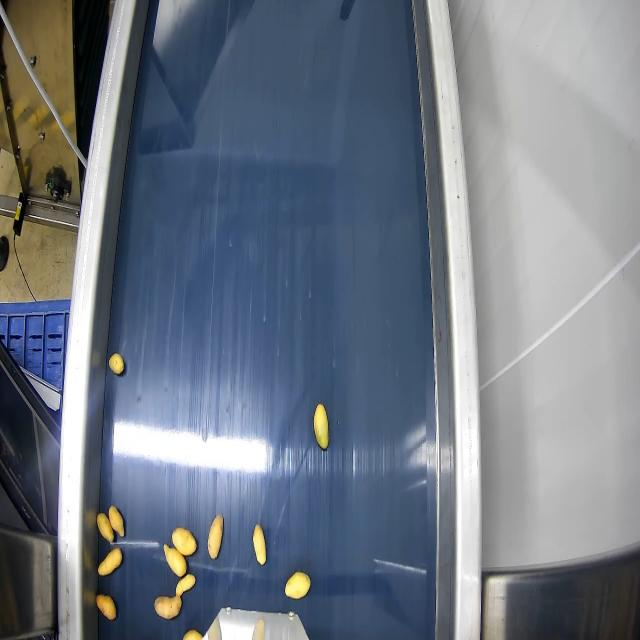Baby Potato: (312, 404, 331, 452), (284, 569, 311, 600), (172, 526, 198, 556), (97, 546, 123, 576), (164, 546, 189, 577), (154, 593, 182, 620), (207, 514, 223, 559), (95, 592, 117, 620), (252, 523, 266, 565), (108, 504, 124, 539), (94, 513, 113, 541), (176, 573, 196, 595), (108, 352, 125, 376), (183, 626, 203, 640)
